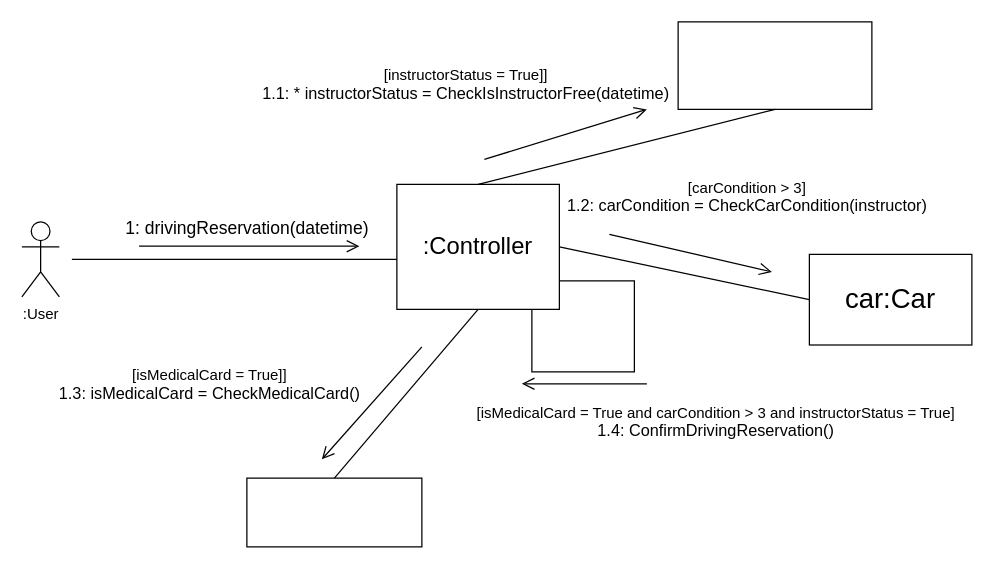
Image size: 994x569. Some labels were removed from this diagram. The shapes that lost their labels are listed below. From the top down, each one's centre as x and y in pixels, then its label:
[774,65]: instructor:Instructor
[334,512]: student:Student
